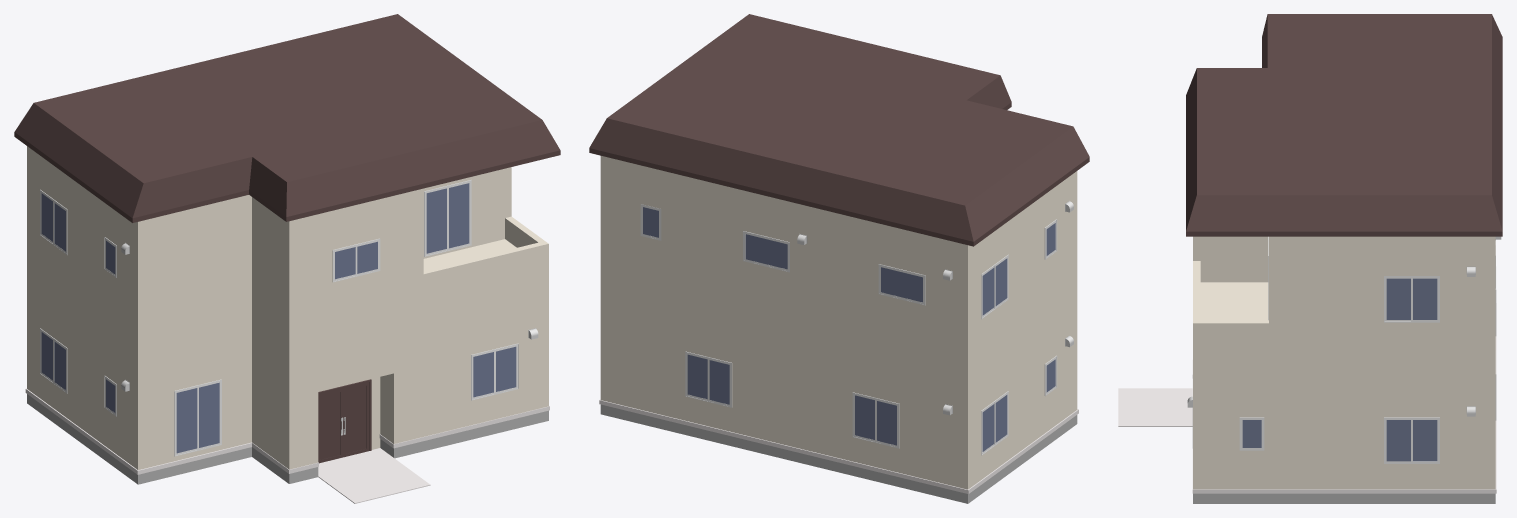
File: MobHouse47.fbx
3 renders of one model, left to right at view 1: azimuth 30°, elevation 25°; view 2: azimuth 150°, elevation 25°; view 3: azimuth 270°, elevation 25°, orthographic. The views are drawn at different scales.
Parts seen in each view (by area): view 1: Flat_half_house02.006; view 2: Flat_half_house02.006; view 3: Flat_half_house02.006.
Boxes of the visible parts, x1,y1,x2,y2 form: Flat_half_house02.006: (14,14,560,503); Flat_half_house02.006: (589,14,1089,503); Flat_half_house02.006: (1118,14,1502,503).
Bounding box in the file's own units: 10.69 × 7.86 × 8.93.
